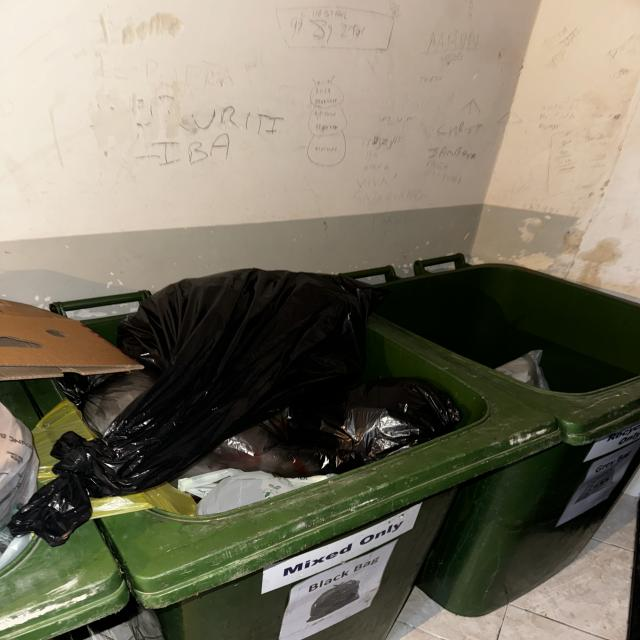Mixed Waste -Black Bags-: (19, 271, 472, 548)
Organic Waste -White Bags-: (178, 473, 337, 516)
